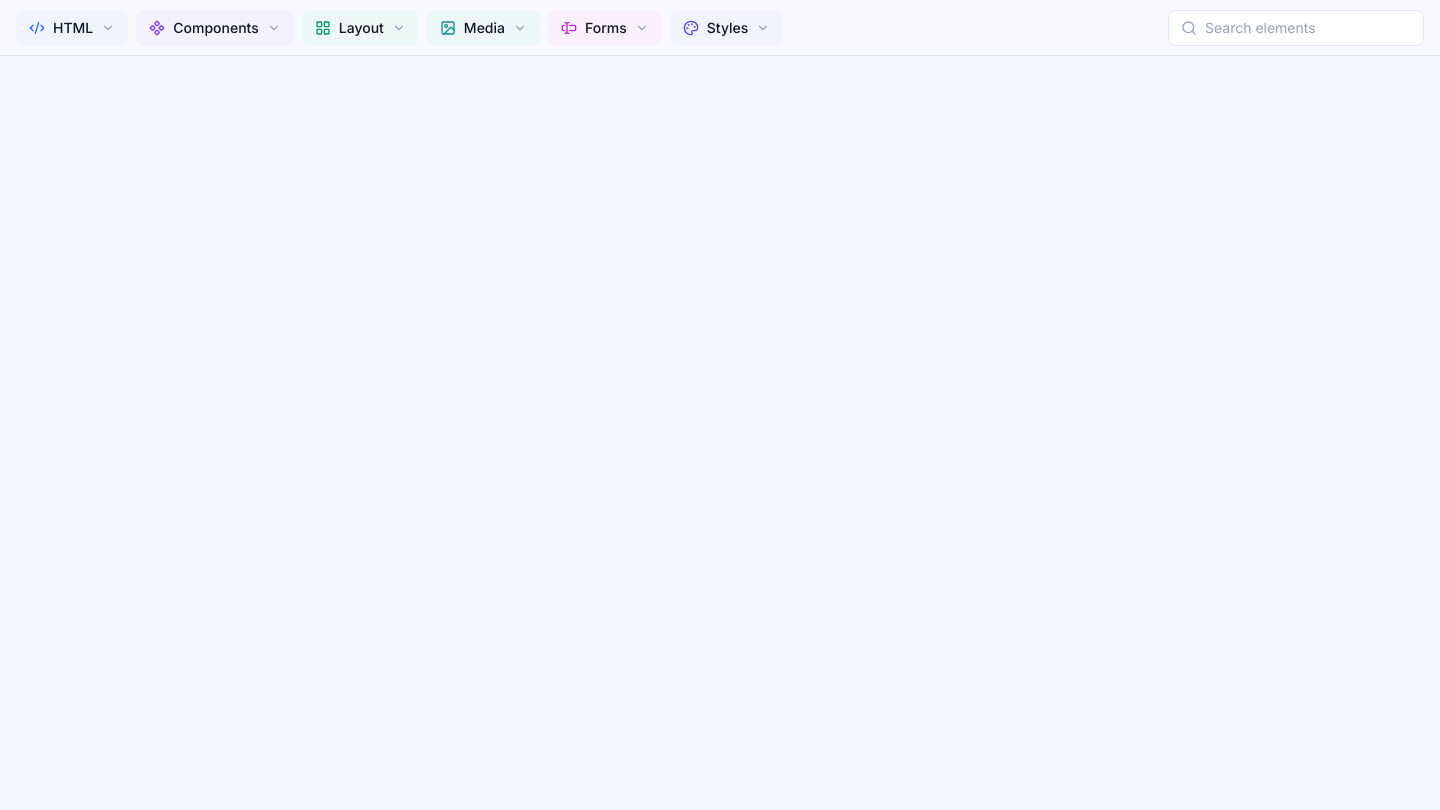
Test: CreationToolbar › shows a placeholder card with a name and description for each future element
Click the button "HTML" at {"x": 72, "y": 28}, box [16, 10, 128, 46]
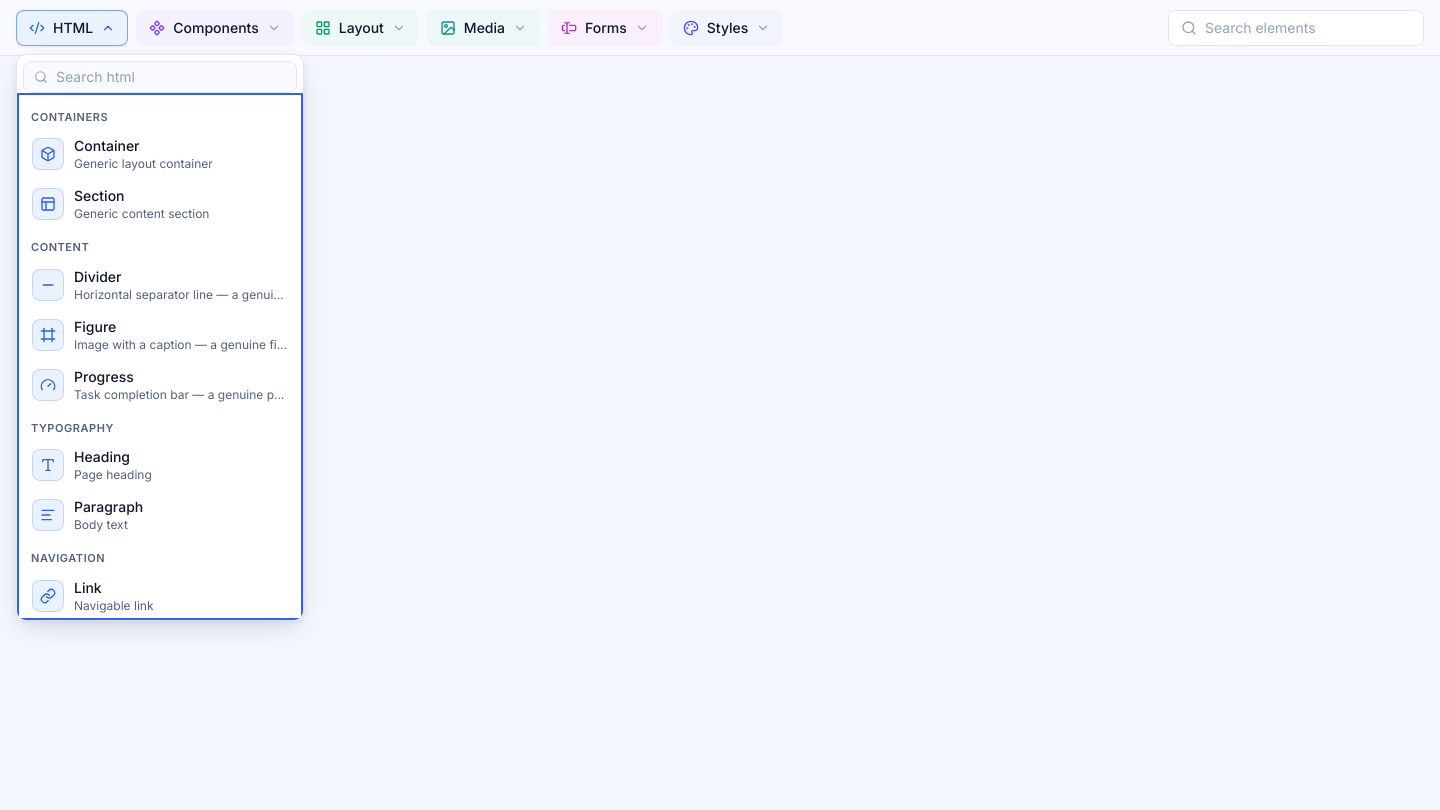
Check: the text "Container" is shown, box [74, 137, 140, 154]
Check: the text "Generic layout container" is shown, box [74, 156, 213, 171]
